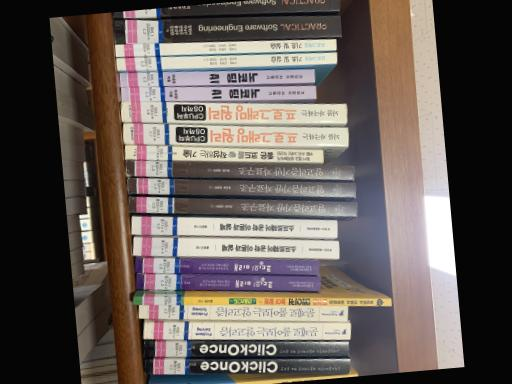book-spine: (112, 15, 339, 43), (121, 123, 348, 146), (126, 196, 356, 217), (132, 236, 338, 259), (119, 102, 346, 122), (125, 160, 352, 180), (142, 319, 350, 340), (125, 178, 354, 197), (130, 216, 336, 237), (114, 52, 336, 71), (110, 0, 338, 18), (113, 38, 335, 56), (118, 69, 314, 88), (144, 339, 347, 357), (143, 358, 349, 375), (123, 145, 322, 162), (120, 85, 316, 102), (133, 257, 318, 275), (135, 274, 320, 292), (137, 305, 347, 320), (132, 296, 391, 306), (210, 375, 356, 384)
